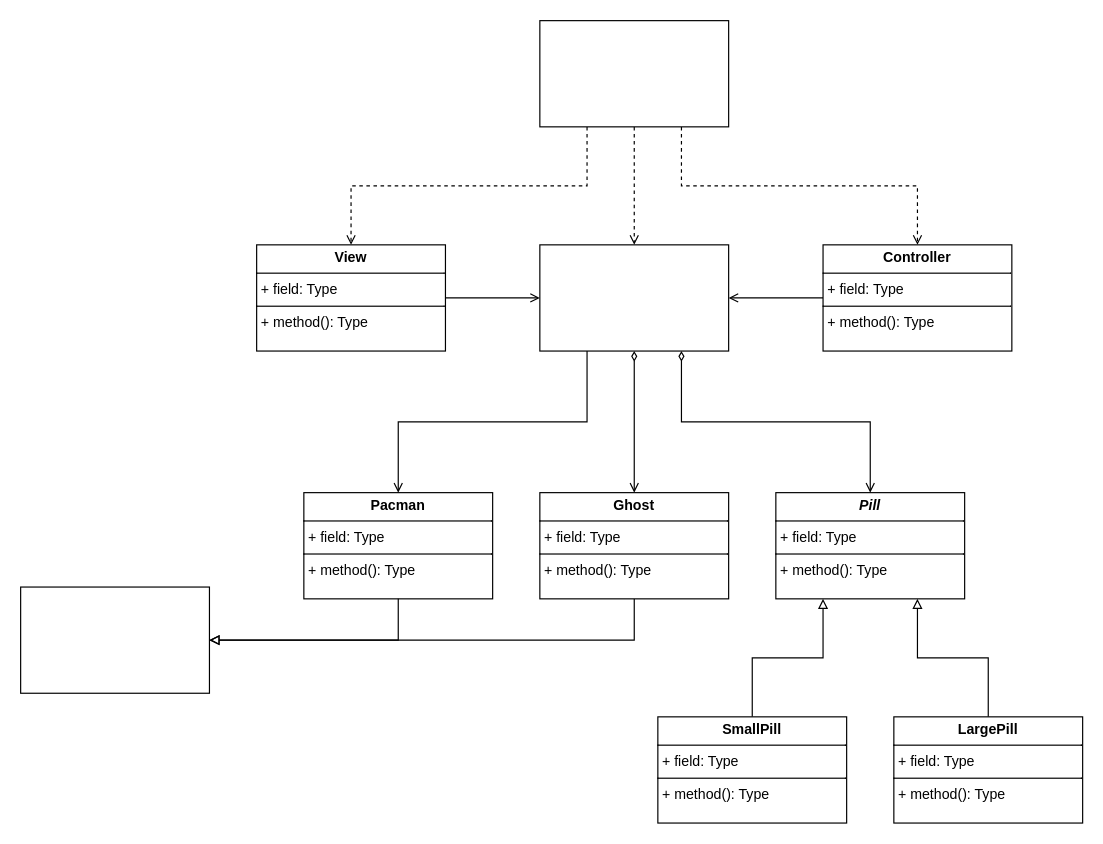
This 1103x844 diagram has some shape labels left out. Here are the shapes that lost their labels. From the top down, the centre of each, then its label:
[634,73]: Main + field: Type + method(): Type
[634,297]: Maze + field: Type + method(): Type
[114,639]: Movable + field: Type + method(): Type
